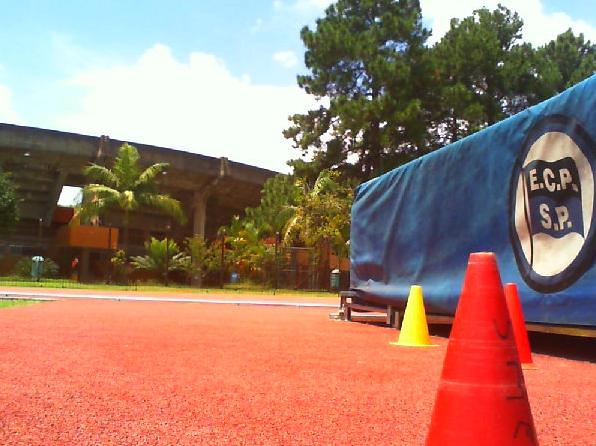0 cone: (421, 252, 543, 446), (503, 284, 538, 371), (389, 286, 439, 346)
